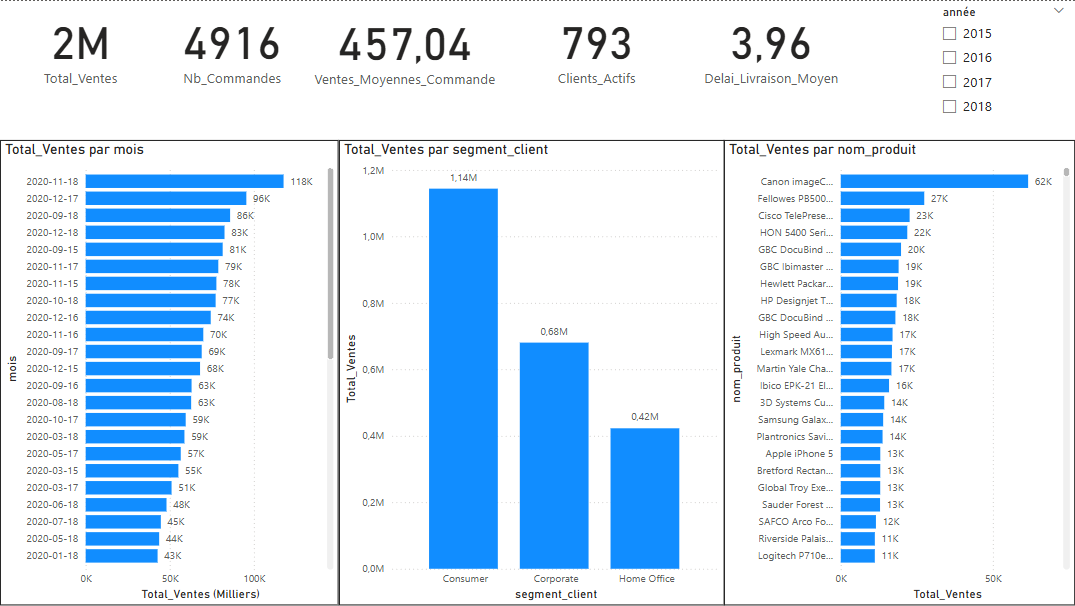

This screenshot's page, from the dashboard's own definition file:
{"tool":"powerbi","page":{"name":"Tableau de bord global","canvas":[1280,720],"ordinal":0},"visuals":[{"type":"card","fields":{"Values":["Faits_Ventes.Total_Ventes"]},"box":[0,0,192.2,106.7],"z":0},{"type":"card","fields":{"Values":["Faits_Ventes.Nb_Commandes"]},"box":[163.3,0,226.7,106.7],"z":1000},{"type":"card","fields":{"Values":["Faits_Ventes.Ventes_Moyennes_Commande"]},"box":[362.2,1.1,240,106.7],"z":2000},{"type":"card","fields":{"Values":["Faits_Ventes.Delai_Livraison_Moyen"]},"box":[805.6,0,224.4,106.7],"z":3000},{"type":"card","fields":{"Values":["Faits_Ventes.Clients_Actifs"]},"box":[615.6,0,190,106.7],"z":4000},{"type":"clusteredBarChart","fields":{"Category":["Dim_Temps.mois"],"Y":["Faits_Ventes.Total_Ventes"]},"box":[0,165.6,403.3,554.4],"z":5000},{"type":"clusteredColumnChart","fields":{"Y":["Faits_Ventes.Total_Ventes"],"Category":["Dim_Client.segment_client"]},"box":[403.3,165.6,458.9,554.4],"z":6000},{"type":"clusteredBarChart","fields":{"Category":["Dim_Produit.nom_produit"],"Y":["Faits_Ventes.Total_Ventes"]},"box":[862.2,165.6,417.8,554.4],"z":7000},{"type":"slicer","fields":{"Values":["Dim_Temps.année"]},"box":[1110,0,170,151.1],"z":7001}]}

Visuals, with their boxes in screenshot pixels (x1, y1, x2, y2), scaled from the page's 1280x720 canvas onto the 1075x606 screenshot:
card - Faits_Ventes.Total_Ventes: l=0, t=0, r=161, b=90
card - Faits_Ventes.Nb_Commandes: l=137, t=0, r=328, b=90
card - Faits_Ventes.Ventes_Moyennes_Commande: l=304, t=1, r=506, b=91
card - Faits_Ventes.Delai_Livraison_Moyen: l=677, t=0, r=865, b=90
card - Faits_Ventes.Clients_Actifs: l=517, t=0, r=677, b=90
clusteredBarChart - Dim_Temps.mois x Faits_Ventes.Total_Ventes: l=0, t=139, r=339, b=605
clusteredColumnChart - Faits_Ventes.Total_Ventes x Dim_Client.segment_client: l=339, t=139, r=724, b=605
clusteredBarChart - Dim_Produit.nom_produit x Faits_Ventes.Total_Ventes: l=724, t=139, r=1074, b=605
slicer - Dim_Temps.année: l=932, t=0, r=1074, b=127
